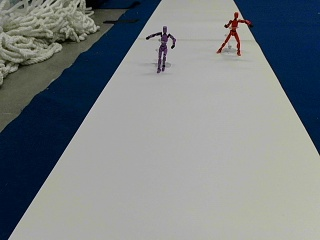pedestrian: (216, 10, 253, 55), (145, 26, 175, 71)
